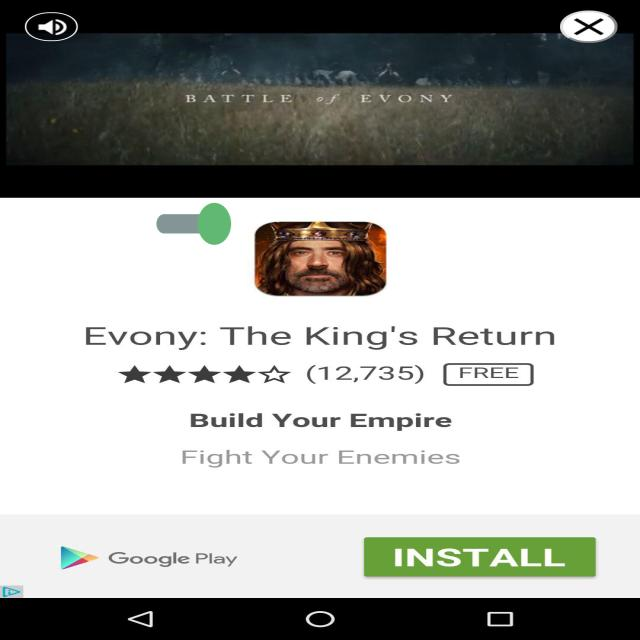social proof: (157, 177, 231, 271)
